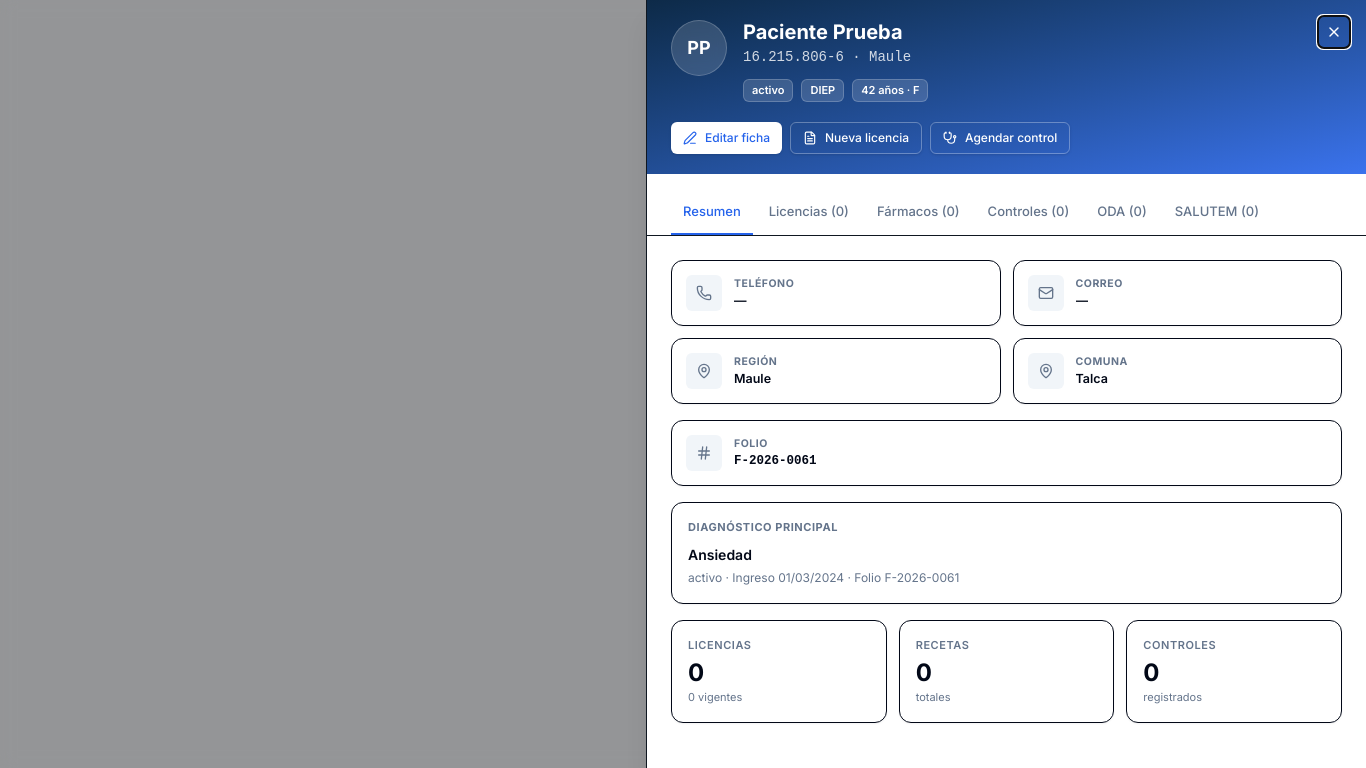
PatientSheet — licencias detectadas en SALUTEM › 'Revisar y registrar' abre el alta de licencia precargada con la sugerencia
This screenshot has width=1366, height=768.
expect the heading "Paciente Prueba" is shown: met, box [743,20,902,44]
Click the tab "SALUTEM (0)": (1217,212) [1163,190,1271,235]
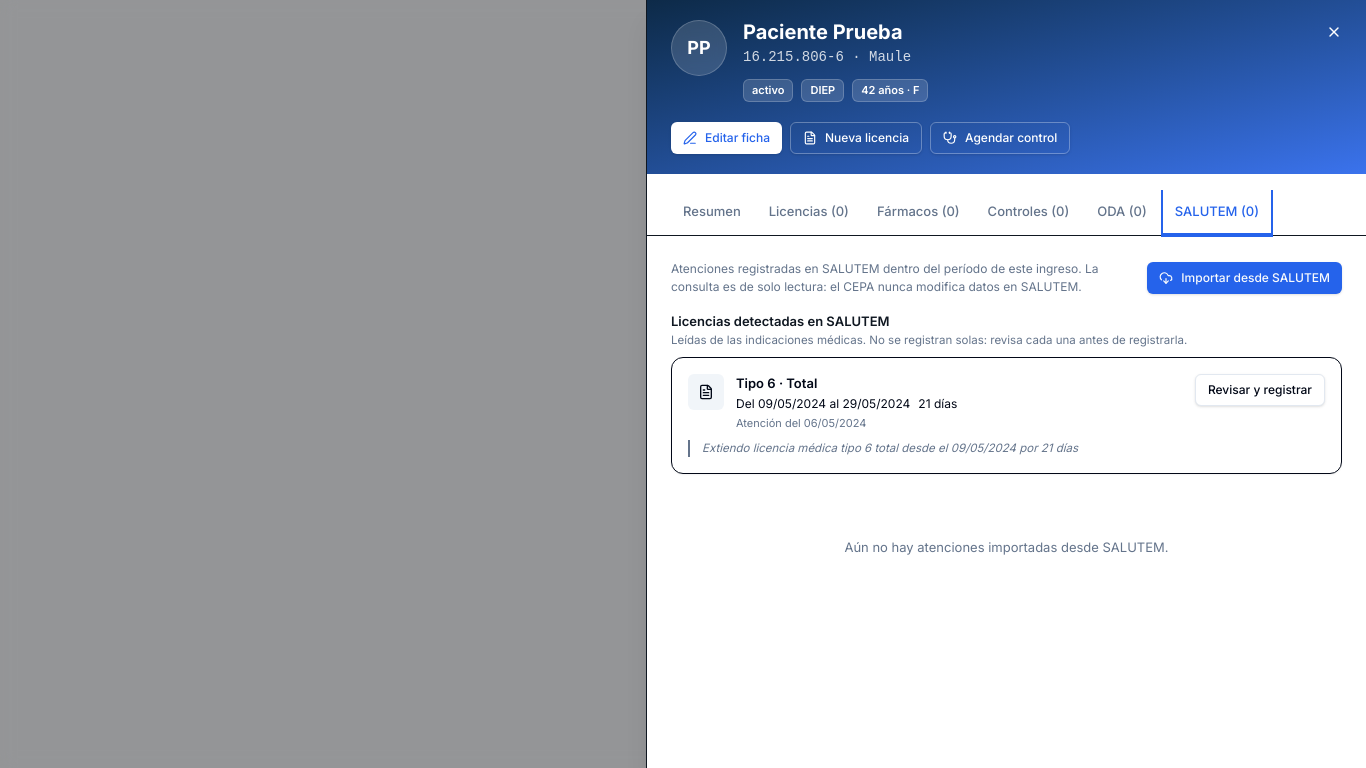
Click the button "Revisar y registrar": (1260,390) [1195,374,1325,406]
(page scrolled)
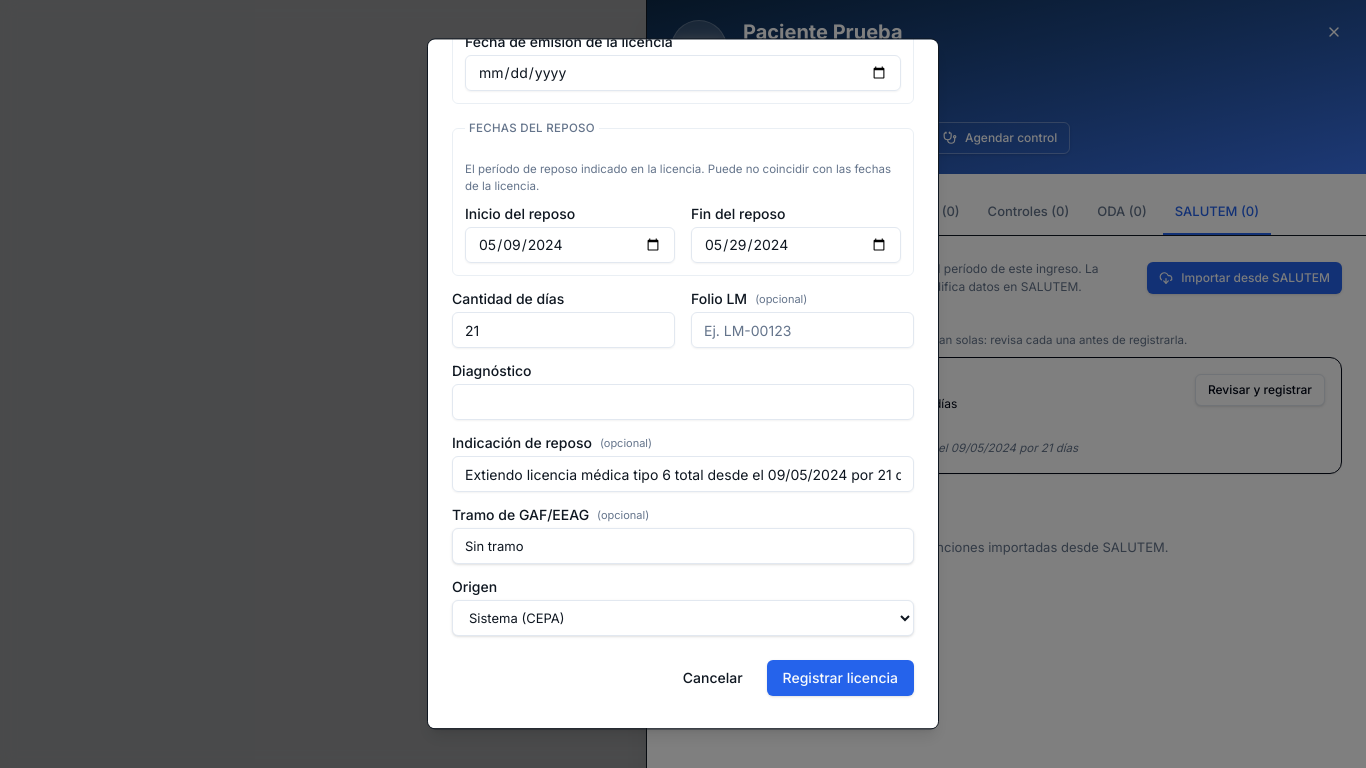
expect the date field labelled "Inicio del reposo" holds "2024-05-09": met, box [465,228,675,264]
expect the date field labelled "Fin del reposo" holds "2024-05-29": met, box [691,228,901,264]
expect the number field labelled "Cantidad de días" holds "21": met, box [452,313,675,349]
